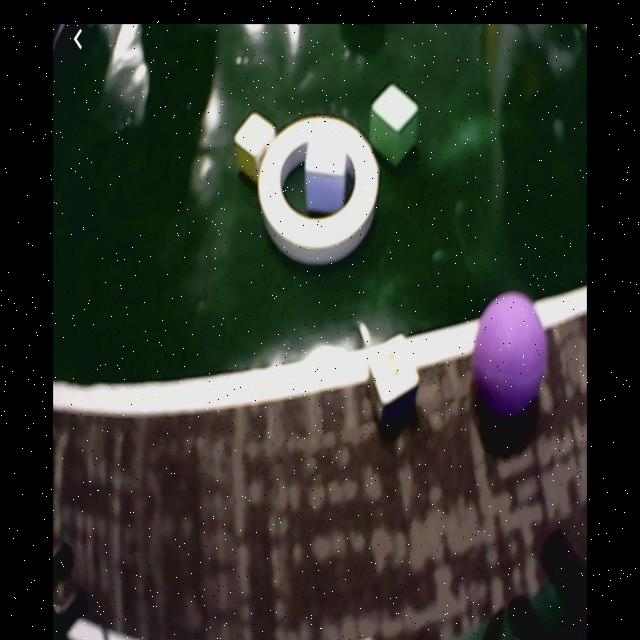ball: (473, 291, 547, 410)
